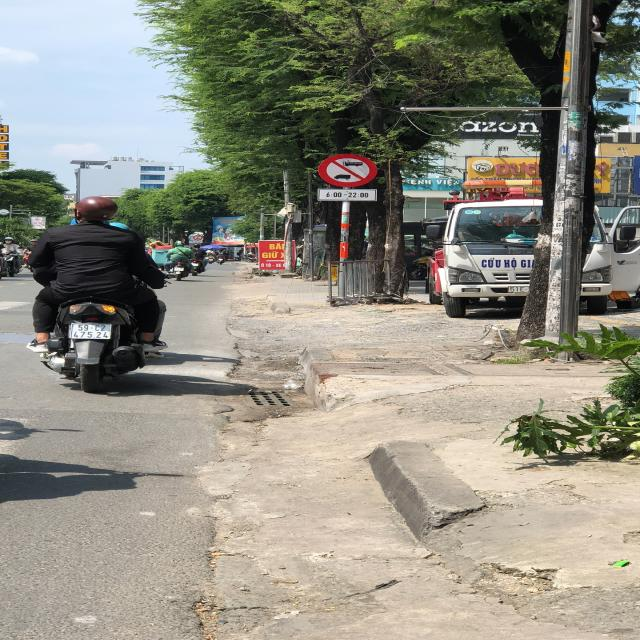Bien bao cam xe oto khach va xe oto tai: (315, 152, 377, 188)
